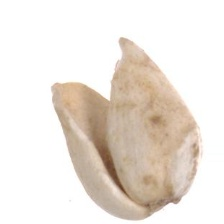L1: (51, 36, 129, 120), (144, 188, 183, 215)
L2: (52, 37, 202, 221)
